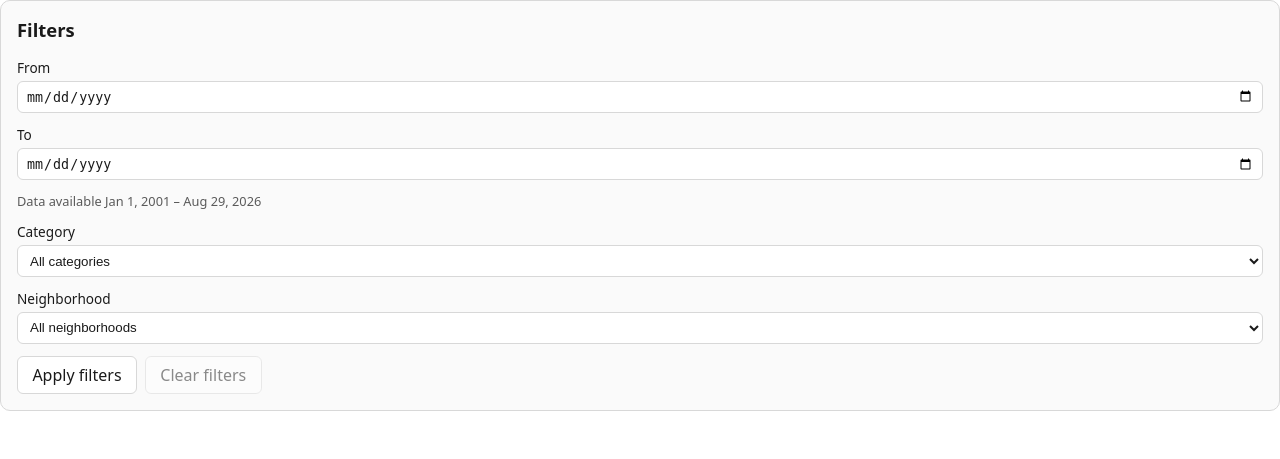
it: FiltersPanel date validation › rejects a To date after the dataset's latest available date and does not apply
Type "2099-01-01" into the date field labelled "To".
click(640, 164); type("2099-01-01")  # box [17,148,1263,180]
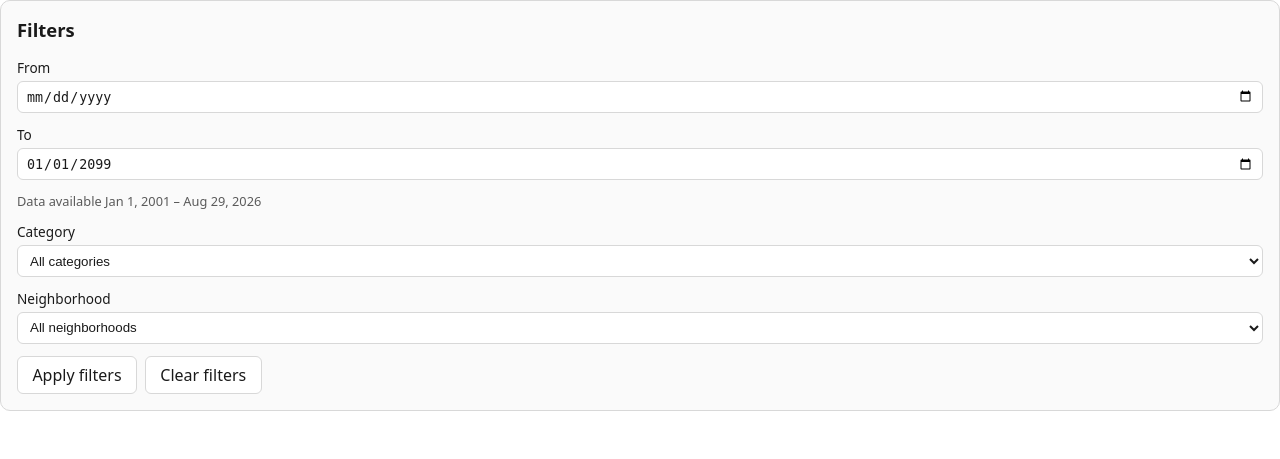
Click the button "Apply filters".
click(77, 375)  # box [17,356,137,394]
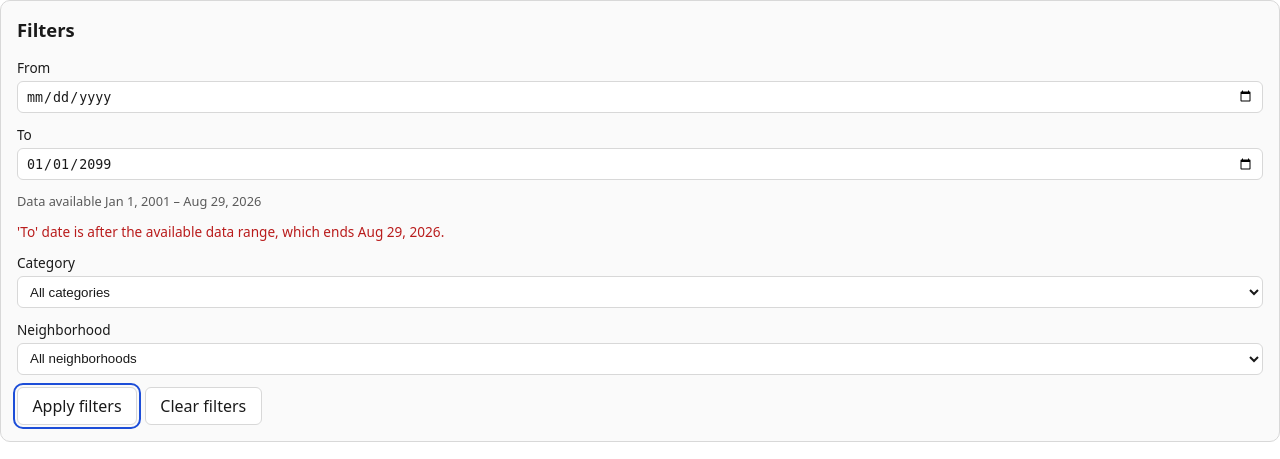
Now the message shows "after the available data range", box [17,222,444,241]
